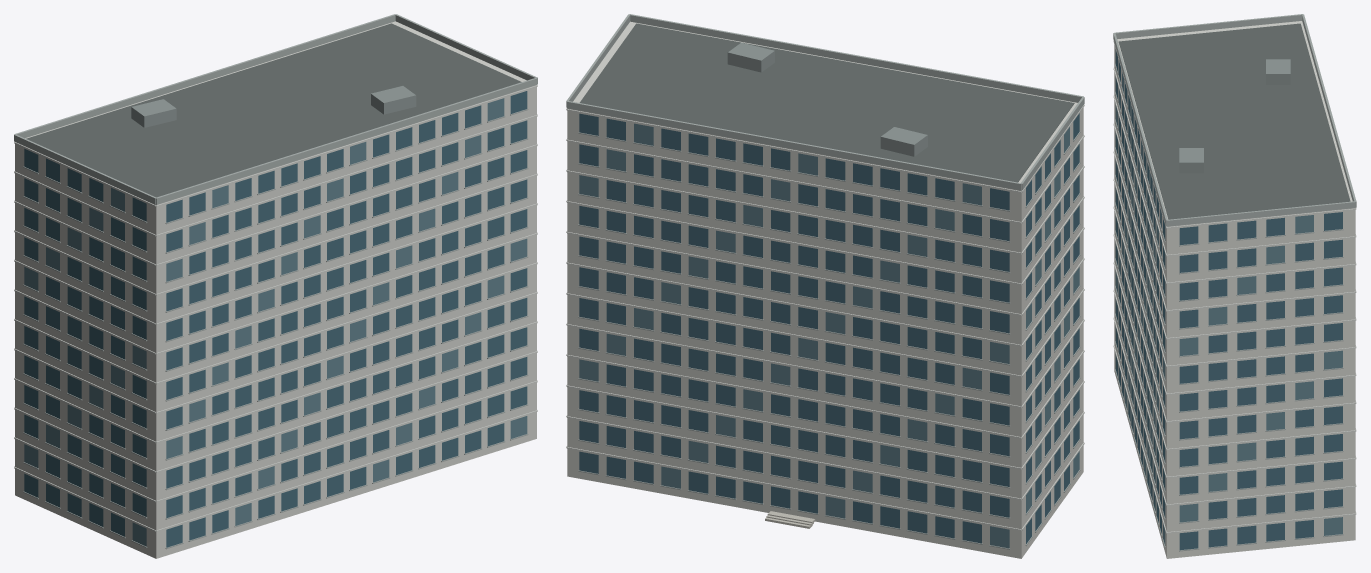
Rendered from 东侧办公园区-008.glb.
3 views of the same model, side by side, from view 1: azimuth 30°, elevation 25°; view 2: azimuth 150°, elevation 25°; view 3: azimuth 270°, elevation 25° (orthographic). The views are drawn at different scales.
Parts seen in each view (by area): view 1: 东侧办公园区-008; view 2: 东侧办公园区-008; view 3: 东侧办公园区-008.
Part boxes in pixels (x1,y1,x2,y2): 东侧办公园区-008: [14, 14, 537, 558]; 东侧办公园区-008: [566, 14, 1084, 558]; 东侧办公园区-008: [1113, 14, 1356, 558].
Size of the model in its own units: 55.97 by 43.42 by 27.82.
